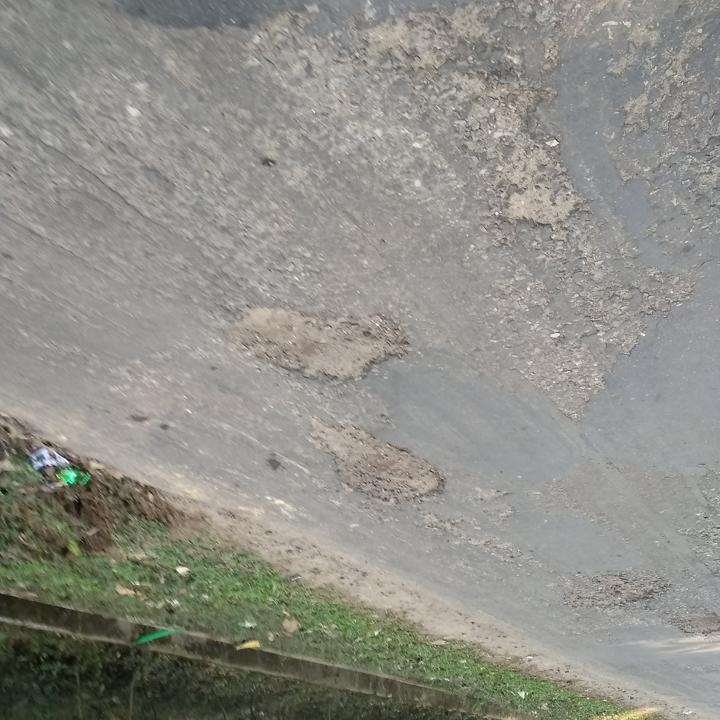pothole: (232, 299, 411, 389), (314, 418, 451, 505), (501, 174, 586, 234), (572, 567, 665, 612), (668, 609, 720, 641)
